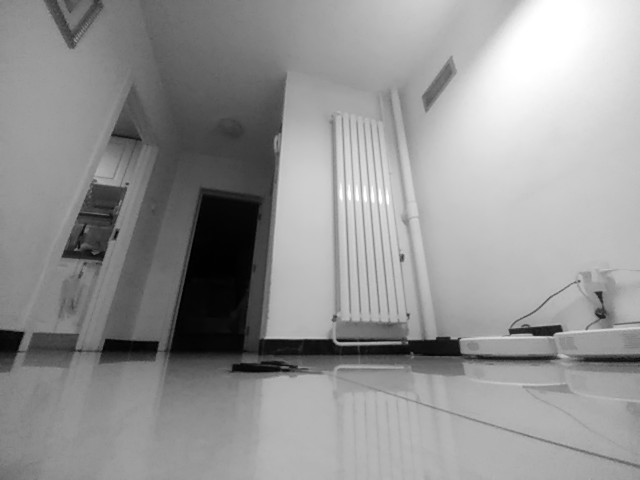others: (232, 359, 315, 377)
